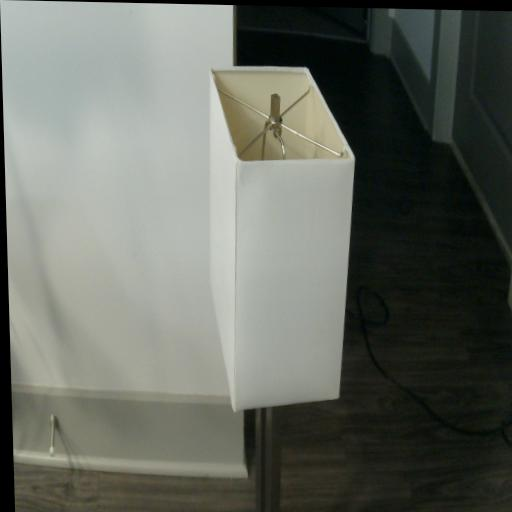lamp: (204, 66, 366, 512)
